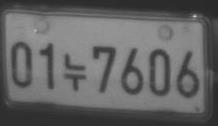0: (9, 41, 34, 87), (148, 48, 171, 96)
1: (37, 42, 60, 90)
6: (175, 50, 200, 98), (120, 47, 144, 95)
7: (91, 45, 117, 93)
누: (62, 51, 87, 91)
